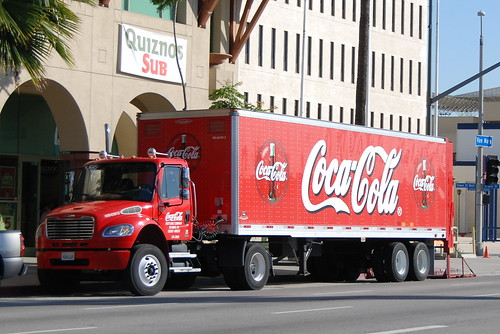truck: (34, 108, 455, 294)
